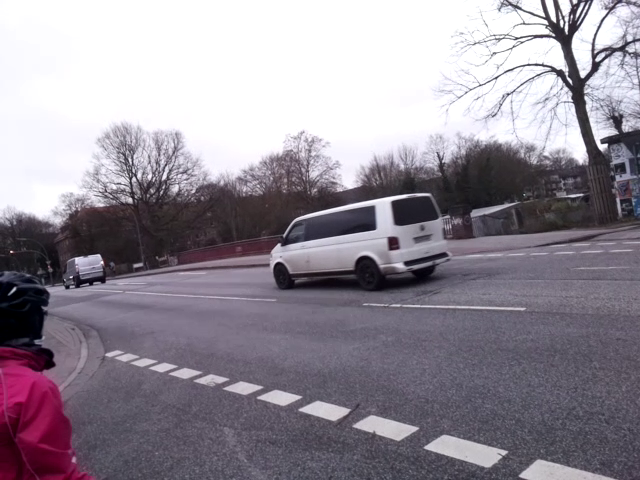car: (263, 184, 446, 301), (58, 247, 111, 289)
